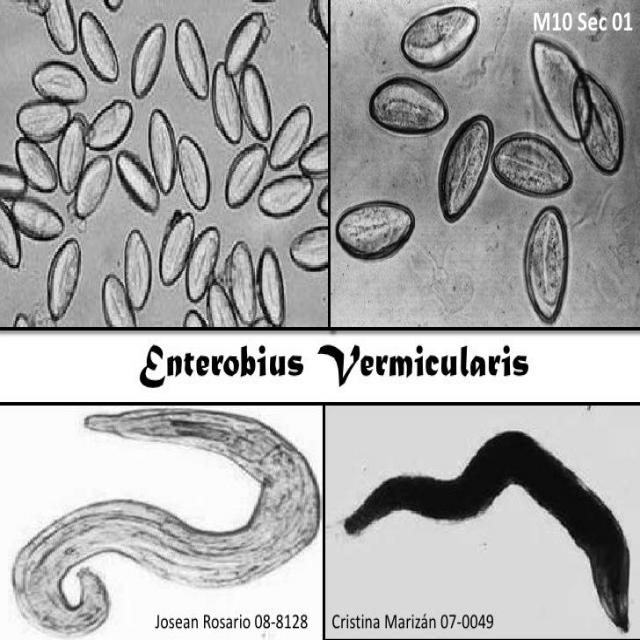Enterobius Vermicularis: (528, 34, 594, 150), (518, 202, 575, 330), (437, 112, 496, 230), (365, 67, 453, 142), (570, 65, 626, 180), (489, 129, 577, 202), (332, 199, 418, 269), (401, 2, 482, 75), (41, 231, 84, 326), (120, 228, 158, 309)
